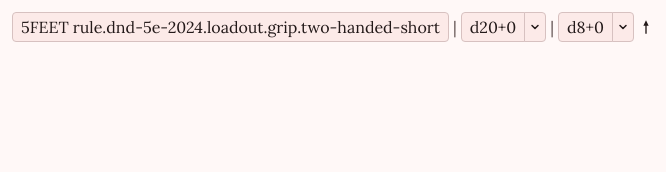
it: PanelDiceLine - a planned versatile attack keeps the grip it was planned with › leaves the thrown bands at the one-handed die whatever the captured grip
Click the button "5FEET rule.dnd-5e-2024.loadout.grip.two-handed-short" at (230, 27), box [12,12,449,42]
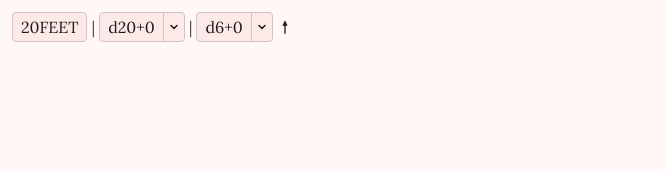
Check: the button "20FEET" is shown, box [12,12,88,42]
Check: the text "d6" is shown, box [196,12,252,42]
Check: the text "rule.dnd-5e-2024.loadout.grip.two-handed-short" is gone
